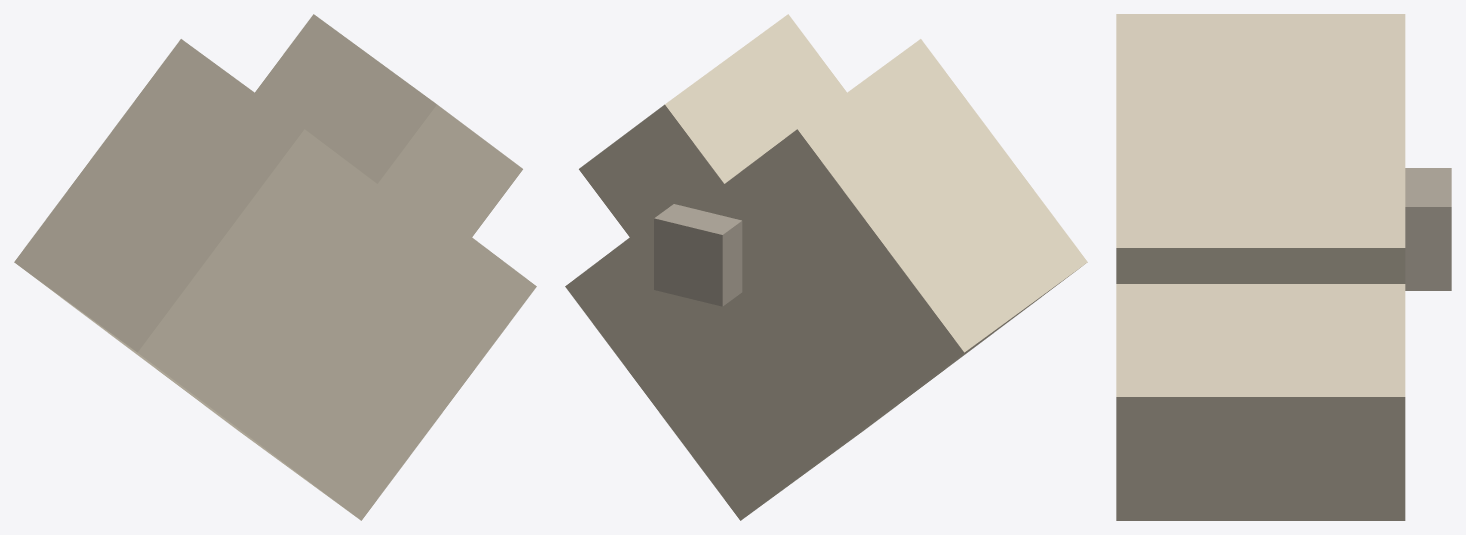
Rendered from historic-palestine-10_22_3523_3161.glb.
3 views of the same model, side by side, from view 1: azimuth 30°, elevation 25°; view 2: azimuth 150°, elevation 25°; view 3: azimuth 270°, elevation 25° (orthographic). The views are drawn at different scales.
Visible parts, largest first — view 1: Building_; view 2: Building_, Roof access hut; view 3: Building_, Roof access hut.
Boxes of the visible parts, x1=… form: Building_: x1=14, y1=14, x2=536, y2=520; Building_: x1=565, y1=14, x2=1087, y2=520; Roof access hut: x1=654, y1=204, x2=742, y2=306; Building_: x1=1116, y1=14, x2=1405, y2=520; Roof access hut: x1=1405, y1=168, x2=1451, y2=290.
Size of the model in its own units: 14 by 13.59 by 8.7.
